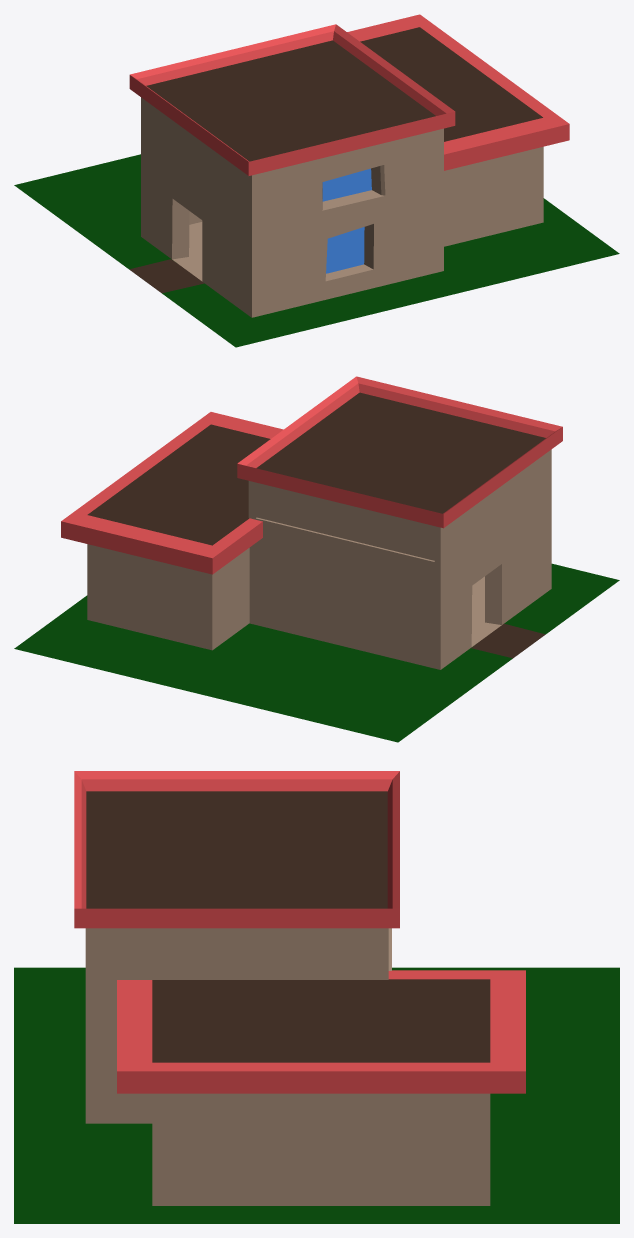
The model's file is house_demo1.gltf.
3 views of the same model, one above another, from view 1: azimuth 30°, elevation 25°; view 2: azimuth 150°, elevation 25°; view 3: azimuth 270°, elevation 25° (orthographic). The views are drawn at different scales.
Parts seen in each view (by area): view 1: Cube.001; view 2: Cube.001; view 3: Cube.001.
Boxes of the visible parts, x1=… form: Cube.001: x1=14, y1=14, x2=619, y2=347; Cube.001: x1=14, y1=376, x2=619, y2=742; Cube.001: x1=14, y1=771, x2=619, y2=1223.
Size of the model in its own units: 20 by 8.01 by 20.
